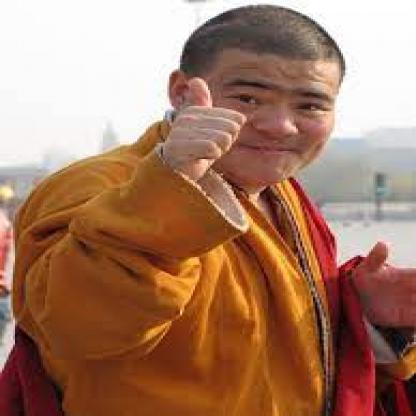thumb_up: (162, 76, 249, 170)
